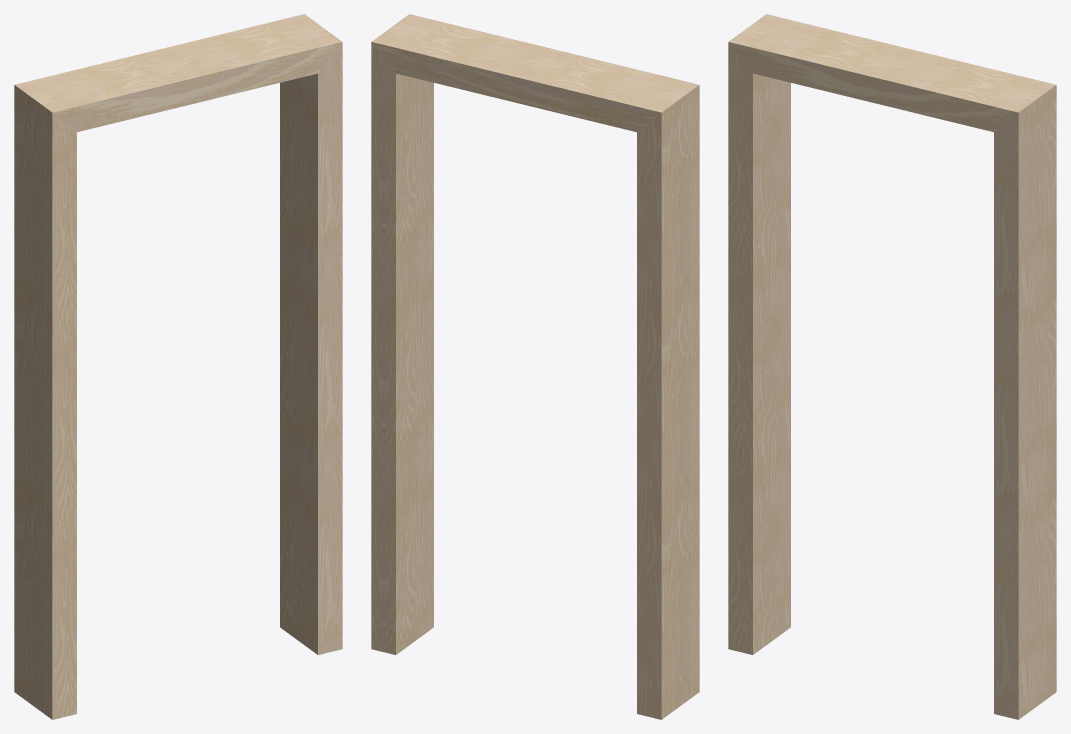
The model's file is door_029.fbx.
3 renders of one model, left to right at view 1: azimuth 30°, elevation 25°; view 2: azimuth 150°, elevation 25°; view 3: azimuth 330°, elevation 25°, orthographic.
Parts seen in each view (by area): view 1: door_029; view 2: door_029; view 3: door_029.
Boxes of the visible parts, box(x1,y1,x2,y2) form: door_029: box(14, 14, 342, 719); door_029: box(371, 14, 699, 719); door_029: box(728, 14, 1056, 719).
Bounding box in the file's own units: 115 × 26.01 × 229.
